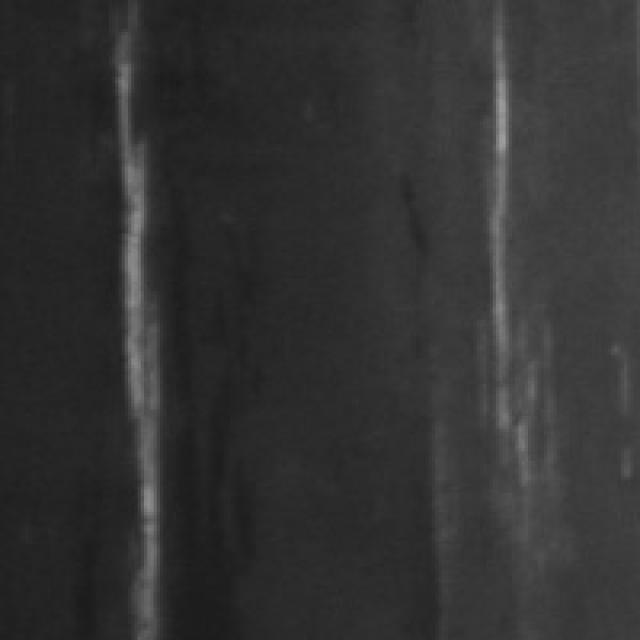scratches: (106, 29, 186, 630), (476, 48, 554, 486)
